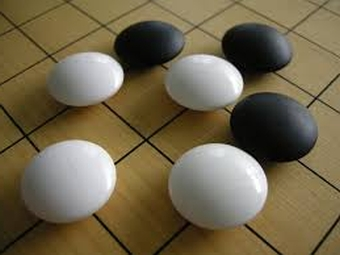black: (228, 90, 321, 163), (221, 21, 295, 75), (112, 20, 187, 67)
crossing: (135, 129, 159, 150), (9, 20, 29, 38), (17, 126, 35, 145), (93, 18, 114, 33), (188, 21, 207, 34)
white: (164, 143, 270, 232), (17, 139, 118, 227), (164, 53, 246, 113), (47, 52, 125, 108)
